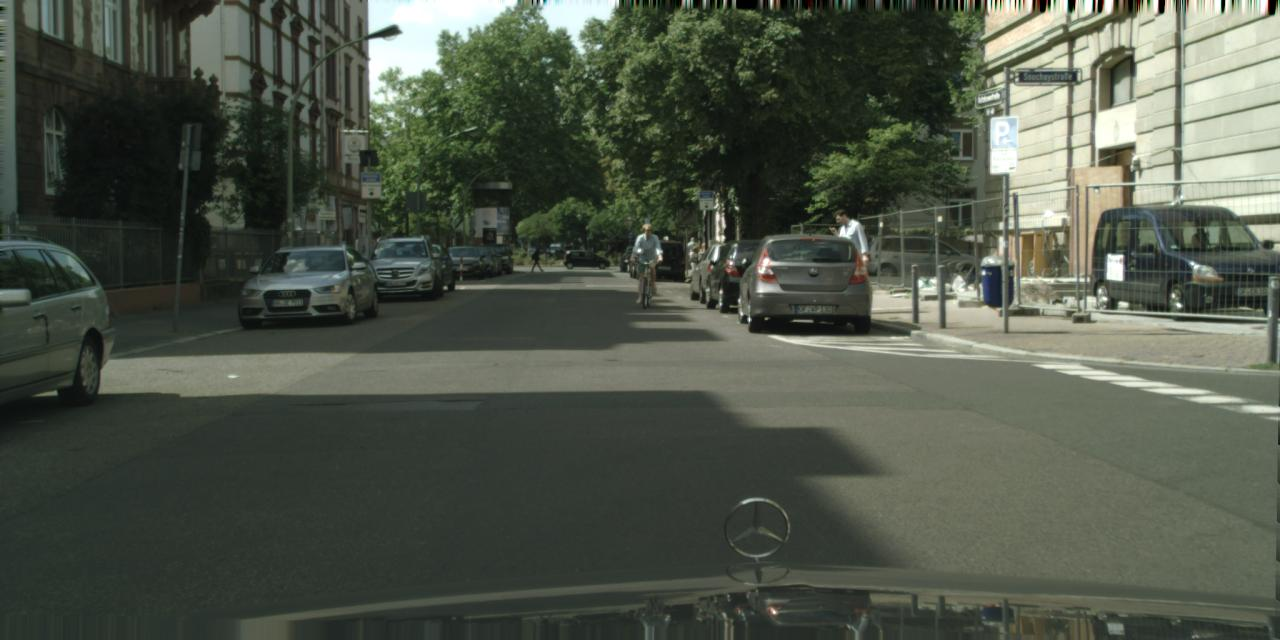ped: (829, 208, 868, 304), (632, 222, 662, 297), (686, 237, 700, 270), (531, 246, 542, 272)
